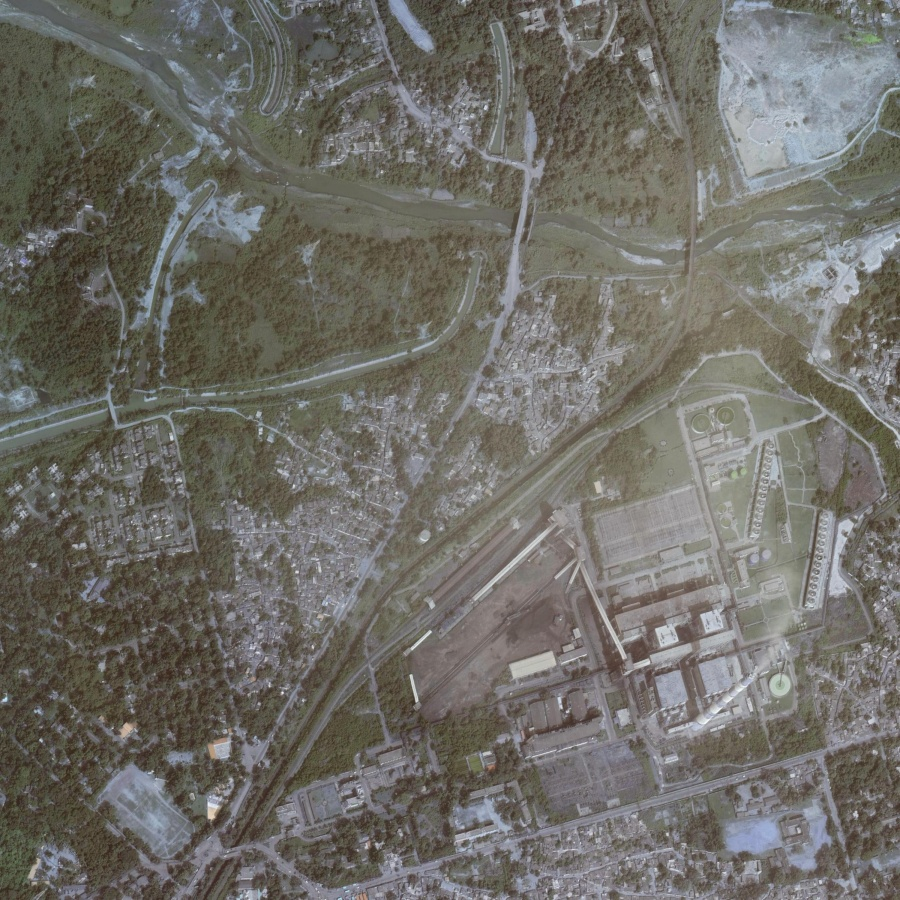PowerPlant: (406, 400, 848, 754)
